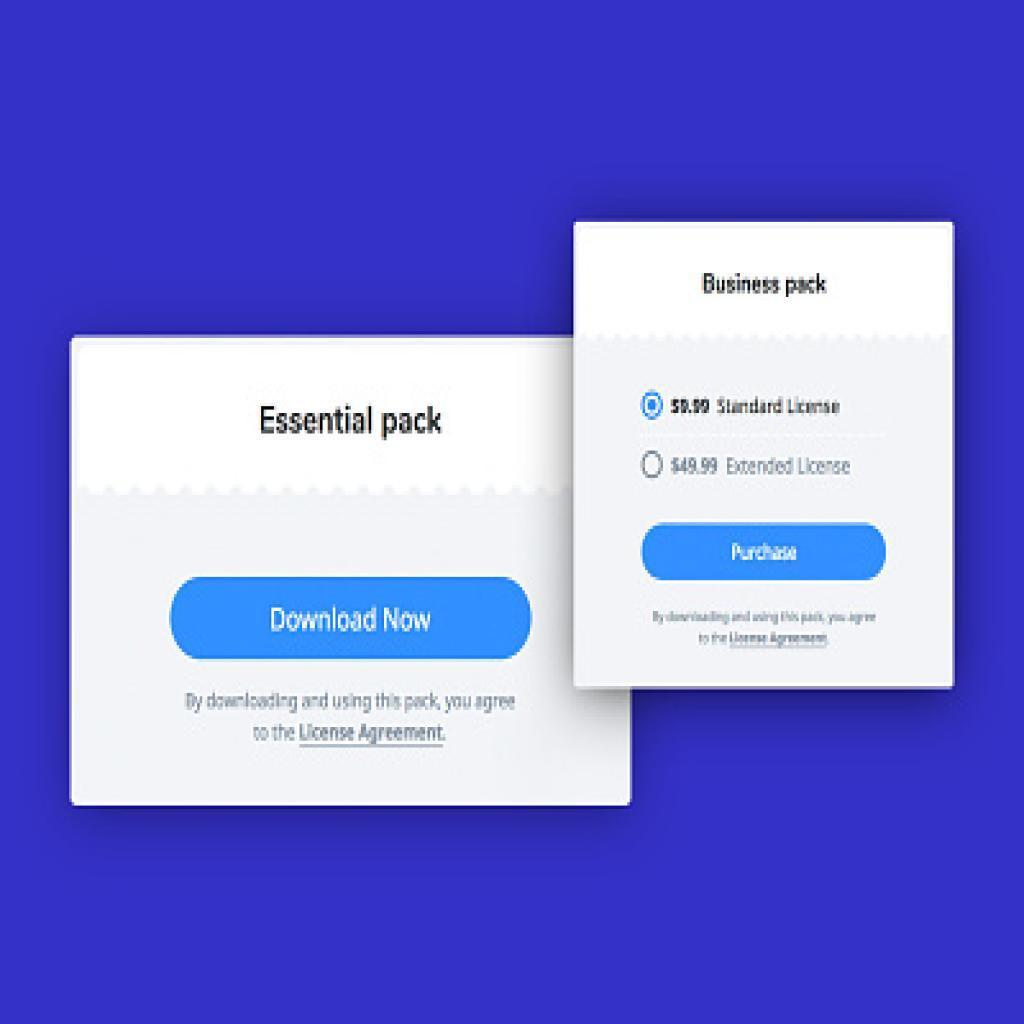button: (169, 577, 534, 664), (643, 523, 889, 583)
radio: (640, 392, 664, 422), (642, 450, 664, 481)
